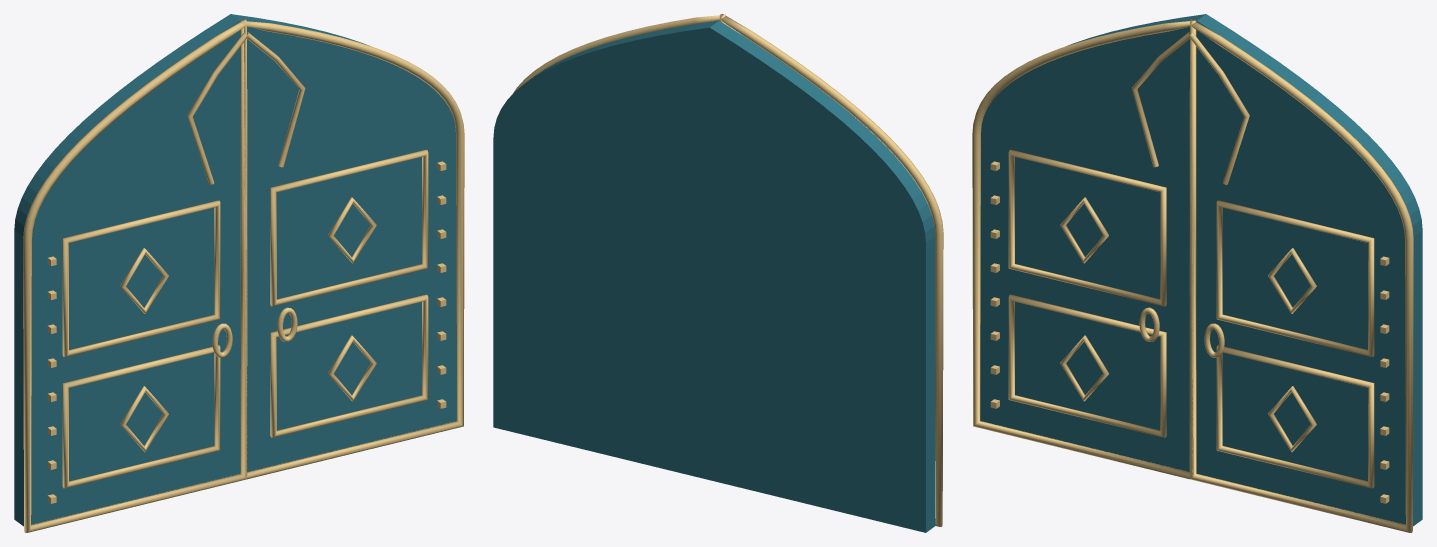
File: Royal-Door-Leaves.glb
3 renders of one model, left to right at view 1: azimuth 30°, elevation 25°; view 2: azimuth 150°, elevation 25°; view 3: azimuth 330°, elevation 25°, orthographic.
Visible parts, largest first — view 1: Teal Enamel Roof (×2), Polished Gold Edge (×2); view 2: Teal Enamel Roof (×2), Polished Gold Edge (×2); view 3: Teal Enamel Roof (×2), Polished Gold Edge (×2).
Part boxes in pixels (box(x1,y1,x2,y2)): Teal Enamel Roof (×2): box(14, 14, 456, 526); Polished Gold Edge (×2): box(23, 19, 464, 532); Teal Enamel Roof (×2): box(493, 20, 935, 532); Polished Gold Edge (×2): box(513, 14, 943, 526); Teal Enamel Roof (×2): box(980, 14, 1422, 526); Polished Gold Edge (×2): box(972, 19, 1413, 532).
Bounding box in the file's own units: 1.02 × 1.01 × 0.103.
